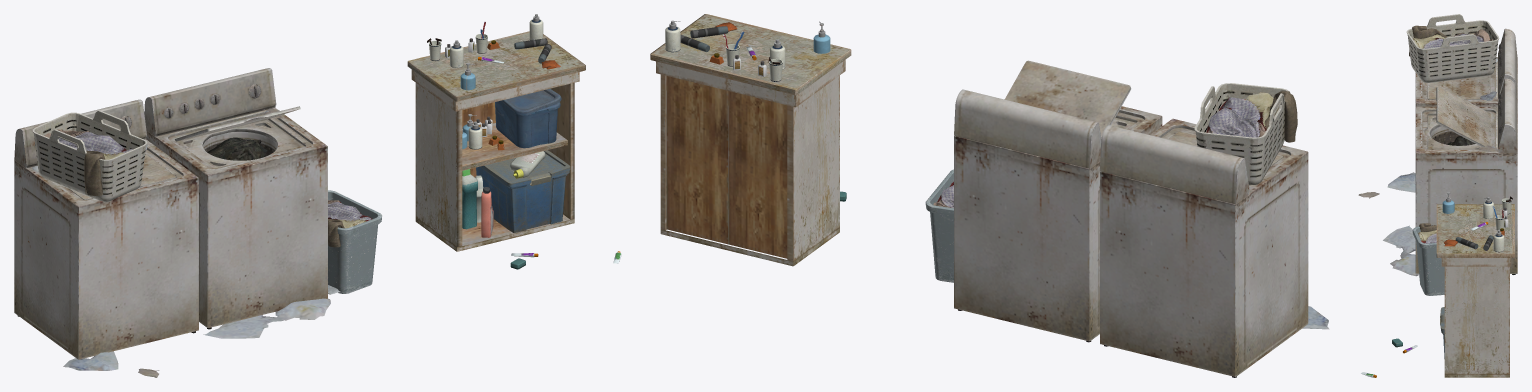
The model's file is sm39_204_showerroomset01a.fbx.
3 views of the same model, side by side, from view 1: azimuth 30°, elevation 25°; view 2: azimuth 150°, elevation 25°; view 3: azimuth 270°, elevation 25° (orthographic). The views are drawn at different scales.
Parts seen in each view (by area): view 1: LOD_1_Group_0_Sub_1__sm31_029_WashingMachine01A_A_Mat, LOD_1_Group_2_Sub_1__sm31_029_WashingMachine01A_A_Mat, LOD_1_Group_0_Sub_7__sm30_105_KitchenStorage01B_A_Mat, LOD_1_Group_0_Sub_2__sm30_084_BasketWashing01A_A_Mat1, LOD_1_Group_1_Sub_4__sm30_074_PlasticBox01A_A_Mat, LOD_1_Group_0_Sub_3__sm30_104_Dustbox01B_B_Mat, LOD_1_Group_13_Sub_1__sm30_073_PlasticBox01A_A_Mat, LOD_1_Group_0_Sub_5__sm20_001_WastePaper01A_A_Mat, LOD_1_Group_0_Sub_8__sm36_018_WashingMaterial01A_A_Mat, LOD_1_Group_0_Sub_4__sm30_084_BasketWashing01A_A_Mat, LOD_1_Group_0_Sub_6__sm36_085_ClothesMass01A_A_Mat, LOD_1_Group_7_Sub_1__sm36_043_MakeupSet01A_A_Mat1 (+4 smaller); view 2: LOD_1_Group_0_Sub_1__sm31_029_WashingMachine01A_A_Mat, LOD_1_Group_0_Sub_7__sm30_105_KitchenStorage01B_A_Mat, LOD_1_Group_2_Sub_1__sm31_029_WashingMachine01A_A_Mat, LOD_1_Group_0_Sub_2__sm30_084_BasketWashing01A_A_Mat1, LOD_1_Group_3_Sub_1__sm31_029_WashingMachine01A_A_Mat, LOD_1_Group_0_Sub_3__sm30_104_Dustbox01B_B_Mat, LOD_1_Group_1_Sub_2__sm36_043_MakeupSet01A_A_Mat1, LOD_1_Group_7_Sub_1__sm36_043_MakeupSet01A_A_Mat1; view 3: LOD_1_Group_0_Sub_7__sm30_105_KitchenStorage01B_A_Mat, LOD_1_Group_2_Sub_1__sm31_029_WashingMachine01A_A_Mat, LOD_1_Group_0_Sub_2__sm30_084_BasketWashing01A_A_Mat1, LOD_1_Group_3_Sub_1__sm31_029_WashingMachine01A_A_Mat, LOD_1_Group_0_Sub_1__sm31_029_WashingMachine01A_A_Mat, LOD_1_Group_0_Sub_5__sm20_001_WastePaper01A_A_Mat, LOD_1_Group_0_Sub_3__sm30_104_Dustbox01B_B_Mat, LOD_1_Group_1_Sub_1__sm31_029_WashingMachine01A_A_Mat, LOD_1_Group_1_Sub_2__sm36_043_MakeupSet01A_A_Mat1, LOD_1_Group_7_Sub_1__sm36_043_MakeupSet01A_A_Mat1, LOD_1_Group_0_Sub_4__sm30_084_BasketWashing01A_A_Mat, LOD_1_Group_9_Sub_1__sm36_043_MakeupSet01A_A_Mat (+2 smaller).
Part boxes in pixels (x1,y1,x2,y2): LOD_1_Group_0_Sub_1__sm31_029_WashingMachine01A_A_Mat: (14,99,198,359); LOD_1_Group_2_Sub_1__sm31_029_WashingMachine01A_A_Mat: (144,68,327,329); LOD_1_Group_0_Sub_7__sm30_105_KitchenStorage01B_A_Mat: (407,31,585,251); LOD_1_Group_0_Sub_2__sm30_084_BasketWashing01A_A_Mat1: (32,110,147,202); LOD_1_Group_1_Sub_4__sm30_074_PlasticBox01A_A_Mat: (476,150,570,232); LOD_1_Group_0_Sub_3__sm30_104_Dustbox01B_B_Mat: (328,190,381,293); LOD_1_Group_13_Sub_1__sm30_073_PlasticBox01A_A_Mat: (495,89,561,148); LOD_1_Group_0_Sub_5__sm20_001_WastePaper01A_A_Mat: (32,108,340,377); LOD_1_Group_0_Sub_8__sm36_018_WashingMaterial01A_A_Mat: (462,151,545,237); LOD_1_Group_0_Sub_4__sm30_084_BasketWashing01A_A_Mat: (328,200,372,247); LOD_1_Group_0_Sub_6__sm36_085_ClothesMass01A_A_Mat: (207,137,267,160); LOD_1_Group_7_Sub_1__sm36_043_MakeupSet01A_A_Mat1: (450,14,543,149); LOD_1_Group_0_Sub_1__sm31_029_WashingMachine01A_A_Mat: (1100,118,1308,377); LOD_1_Group_0_Sub_7__sm30_105_KitchenStorage01B_A_Mat: (650,14,851,266); LOD_1_Group_2_Sub_1__sm31_029_WashingMachine01A_A_Mat: (954,89,1162,342); LOD_1_Group_0_Sub_2__sm30_084_BasketWashing01A_A_Mat1: (1194,83,1297,185); LOD_1_Group_3_Sub_1__sm31_029_WashingMachine01A_A_Mat: (1004,60,1131,138); LOD_1_Group_0_Sub_3__sm30_104_Dustbox01B_B_Mat: (925,169,953,282); LOD_1_Group_1_Sub_2__sm36_043_MakeupSet01A_A_Mat1: (680,26,782,81); LOD_1_Group_7_Sub_1__sm36_043_MakeupSet01A_A_Mat1: (665,20,785,69); LOD_1_Group_0_Sub_7__sm30_105_KitchenStorage01B_A_Mat: (1436,204,1514,377); LOD_1_Group_2_Sub_1__sm31_029_WashingMachine01A_A_Mat: (1415,78,1517,274); LOD_1_Group_0_Sub_2__sm30_084_BasketWashing01A_A_Mat1: (1406,14,1499,82); LOD_1_Group_3_Sub_1__sm31_029_WashingMachine01A_A_Mat: (1436,86,1491,146); LOD_1_Group_0_Sub_1__sm31_029_WashingMachine01A_A_Mat: (1415,28,1517,106); LOD_1_Group_0_Sub_5__sm20_001_WastePaper01A_A_Mat: (1358,58,1497,276); LOD_1_Group_0_Sub_3__sm30_104_Dustbox01B_B_Mat: (1412,224,1444,295); LOD_1_Group_1_Sub_1__sm31_029_WashingMachine01A_A_Mat: (1428,75,1489,99); LOD_1_Group_1_Sub_2__sm36_043_MakeupSet01A_A_Mat1: (1455,198,1511,250); LOD_1_Group_7_Sub_1__sm36_043_MakeupSet01A_A_Mat1: (1483,197,1504,252); LOD_1_Group_0_Sub_4__sm30_084_BasketWashing01A_A_Mat: (1418,223,1436,243); LOD_1_Group_9_Sub_1__sm36_043_MakeupSet01A_A_Mat: (1442,192,1454,213).
Size of the model in its own units: 3.74 by 1.4 by 1.22.
